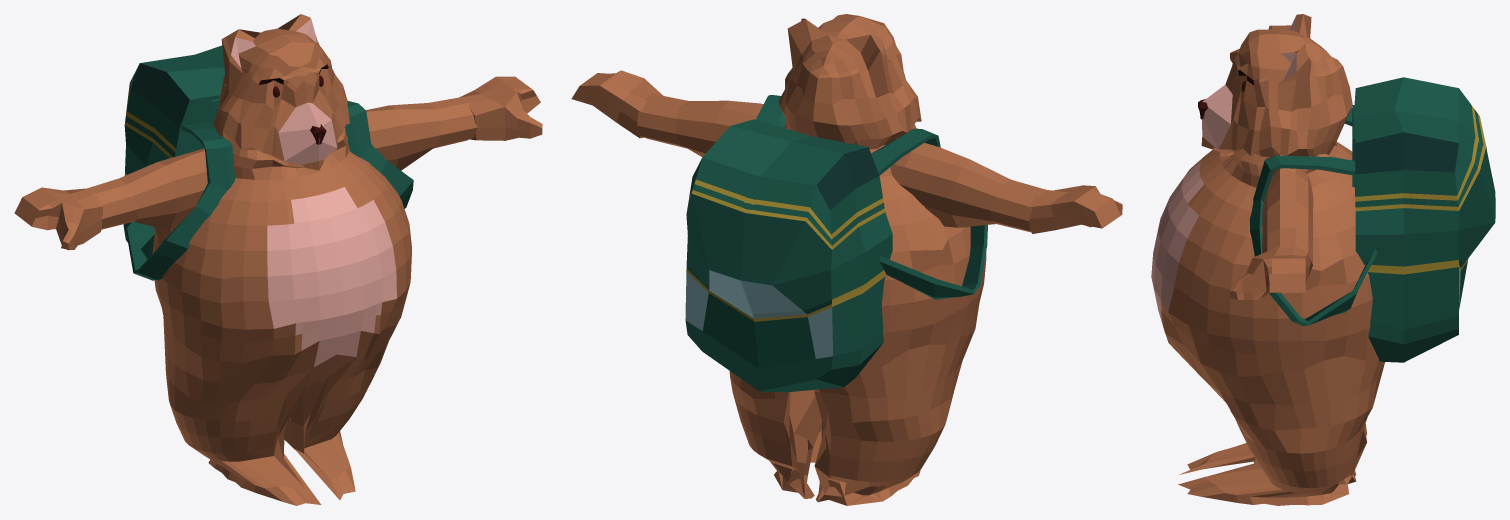
The model's file is bear.fbx.
3 renders of one model, left to right at view 1: azimuth 30°, elevation 25°; view 2: azimuth 150°, elevation 25°; view 3: azimuth 270°, elevation 25°, orthographic. The views are drawn at different scales.
Visible parts, largest first — view 1: sphere pg bear, Cylinder, backpack, Cube, Cube.003, Cube.001; view 2: sphere pg bear, backpack, Cylinder, Cube, Cube.003, Cube.001; view 3: sphere pg bear, backpack, Cylinder, Cube, Cube.003, Cube.001.
Boxes of the visible parts, box(x1,y1,x2,y2) form: sphere pg bear: box(152, 14, 411, 505); Cylinder: box(85, 97, 477, 230); backpack: box(123, 45, 224, 259); Cube: box(14, 76, 542, 250); Cube.003: box(126, 144, 413, 280); Cube.001: box(182, 101, 371, 190); sphere pg bear: box(729, 14, 986, 505); backpack: box(685, 119, 892, 392); Cylinder: box(637, 93, 1047, 232); Cube: box(571, 70, 1122, 233); Cube.003: box(879, 225, 987, 299); Cube.001: box(756, 95, 940, 175); sphere pg bear: box(1151, 14, 1385, 505); backpack: box(1352, 77, 1495, 362); Cylinder: box(1262, 155, 1313, 275); Cube: box(1230, 25, 1310, 299); Cube.003: box(1250, 199, 1377, 325); Cube.001: box(1253, 108, 1355, 205).
Bounding box in the file's own units: 279 × 228 × 158.
